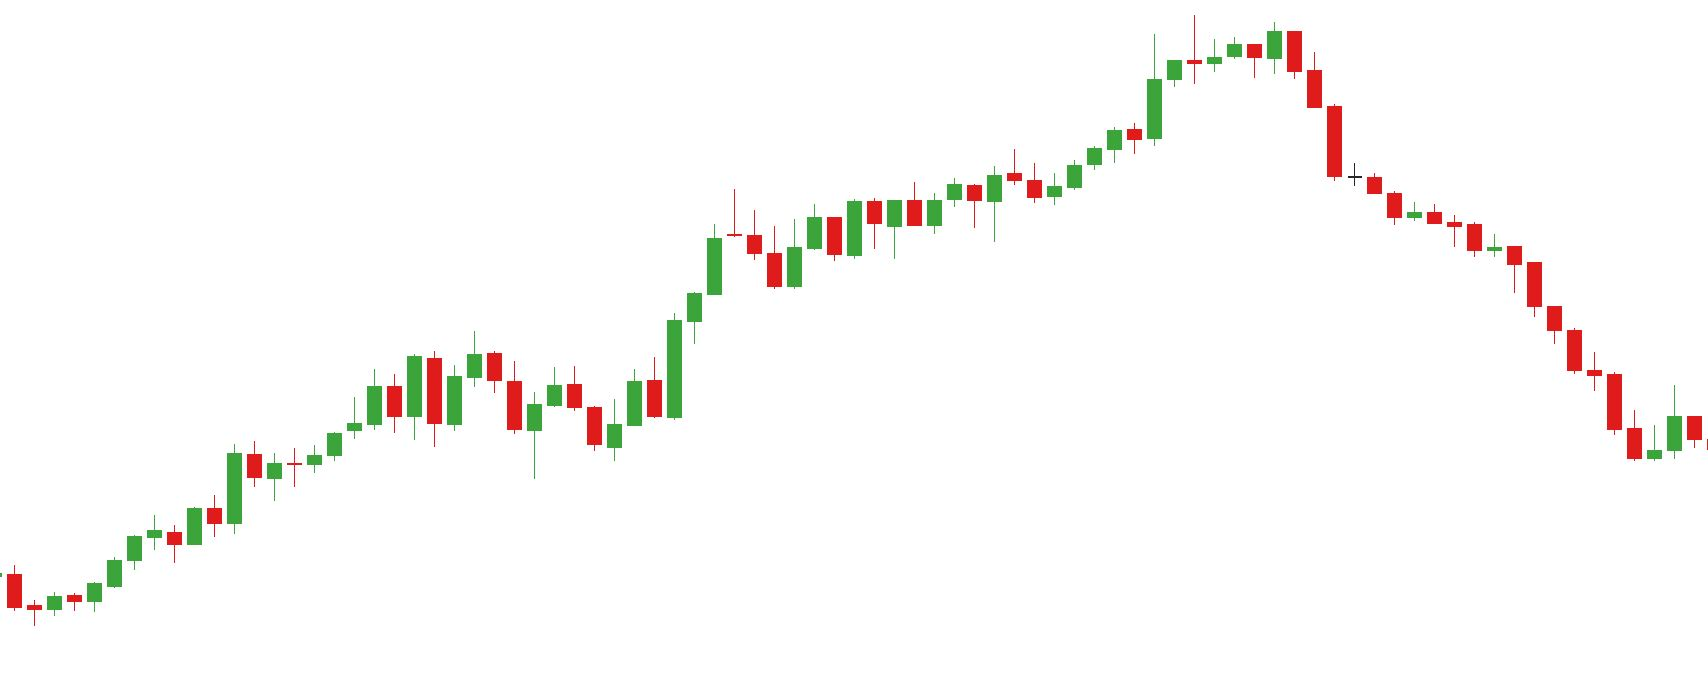buy: (405, 375, 545, 481)
